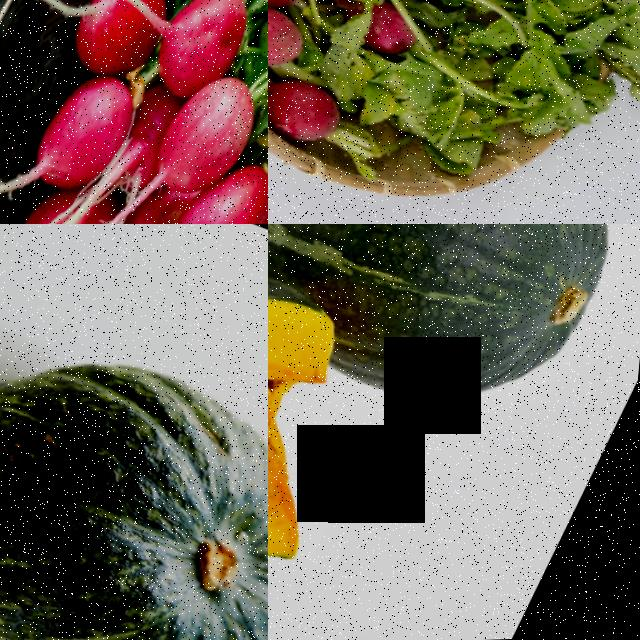pumpkin: (0, 292, 268, 640), (268, 224, 640, 399), (268, 224, 426, 597)
radishes: (0, 0, 268, 224), (268, 0, 416, 163)
